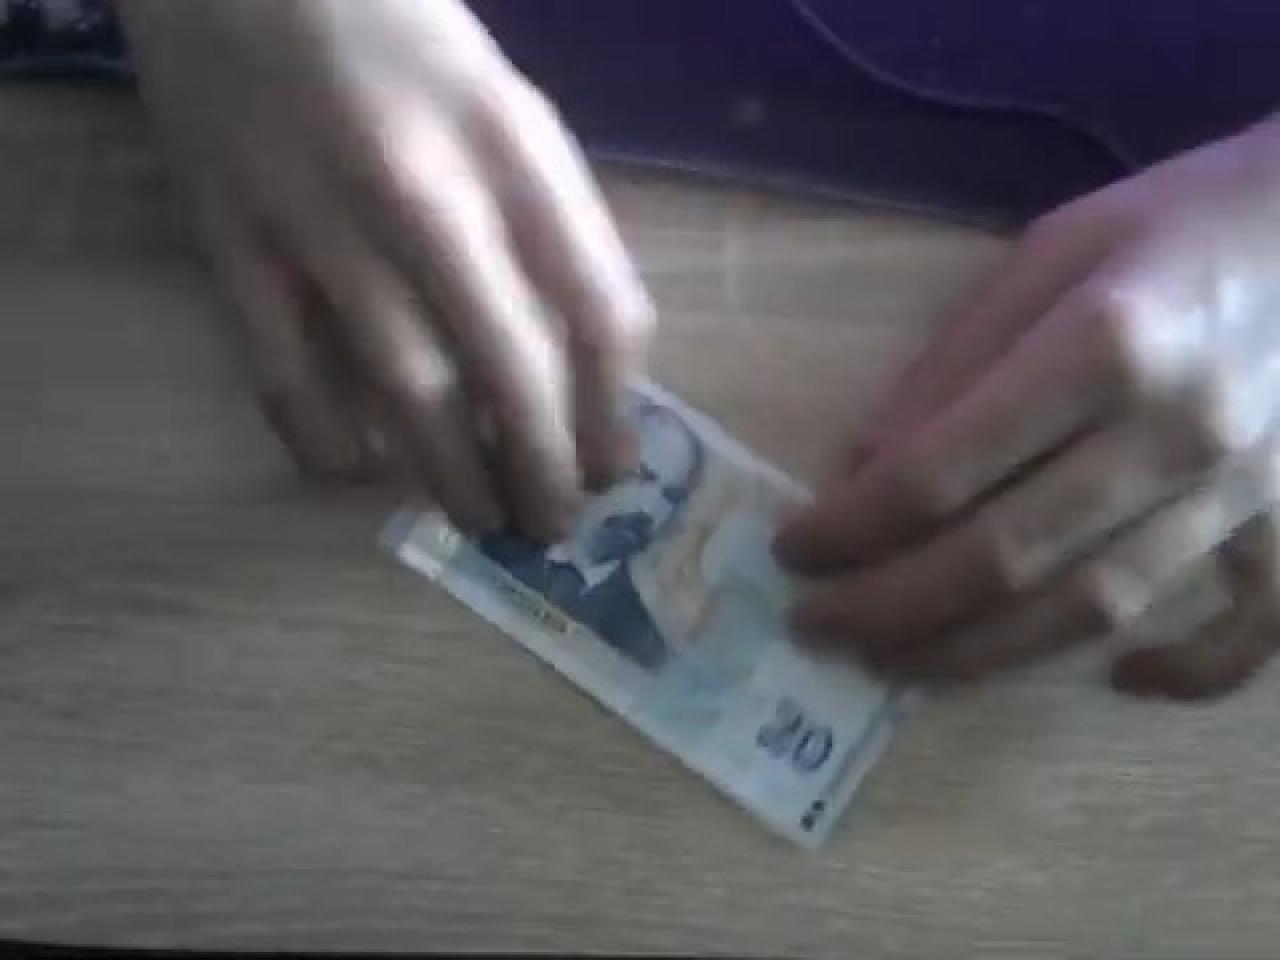20leva: (373, 381, 899, 853)
